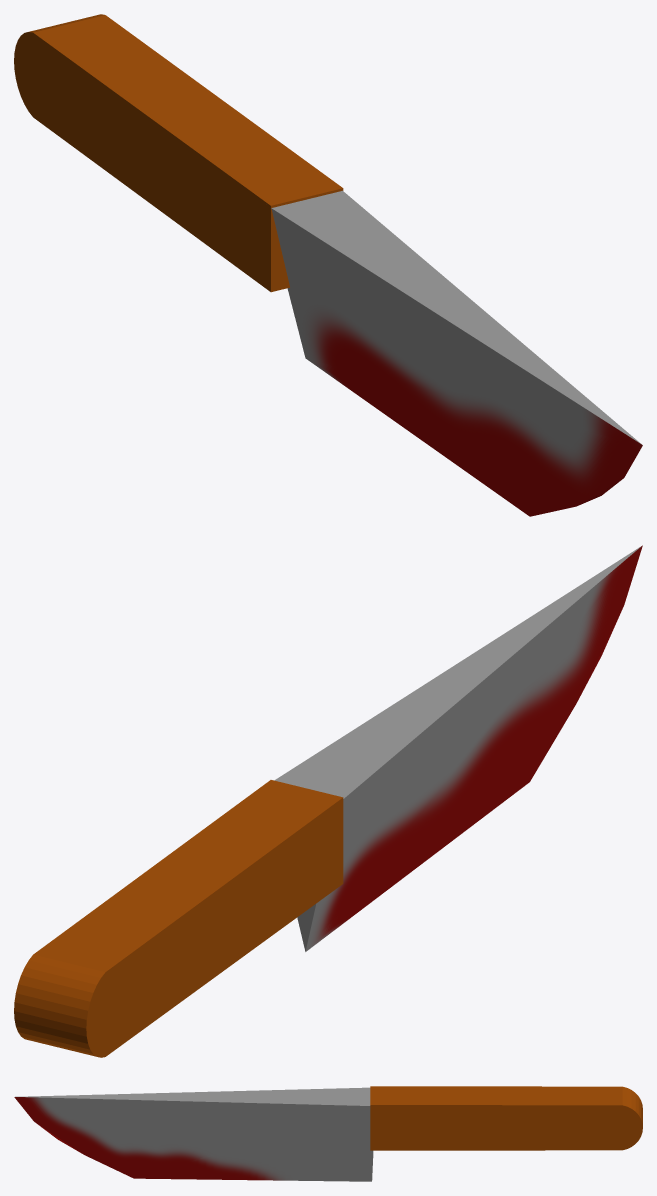
File: bloody_knife.glb
3 views of the same model, one above another, from view 1: azimuth 30°, elevation 25°; view 2: azimuth 150°, elevation 25°; view 3: azimuth 270°, elevation 25° (orthographic). The views are drawn at different scales.
Visible parts, largest first — view 1: Cube; view 2: Cube; view 3: Cube.
Boxes of the visible parts, x1,y1,x2,y2 form: Cube: (14,14,642,516); Cube: (14,545,642,1057); Cube: (14,1086,642,1181).
Bounding box in the file's own units: 0.4548 × 0.9752 × 6.45.
2 materials, 1 textured.
